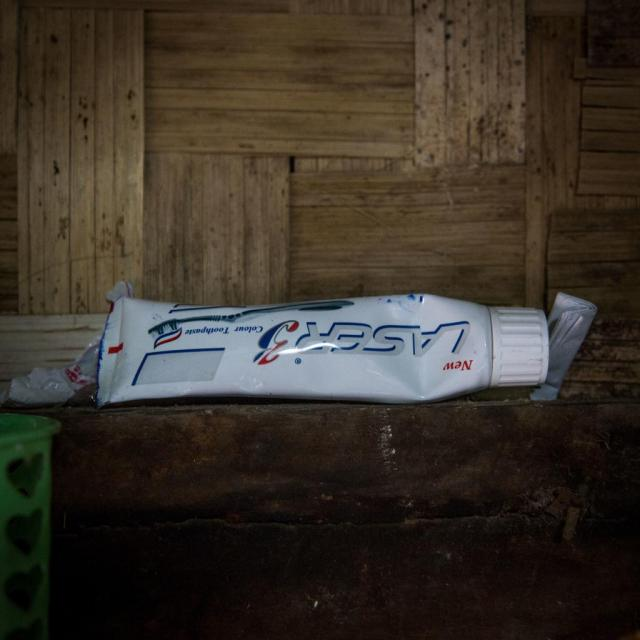Toothpaste: (70, 273, 576, 407)
